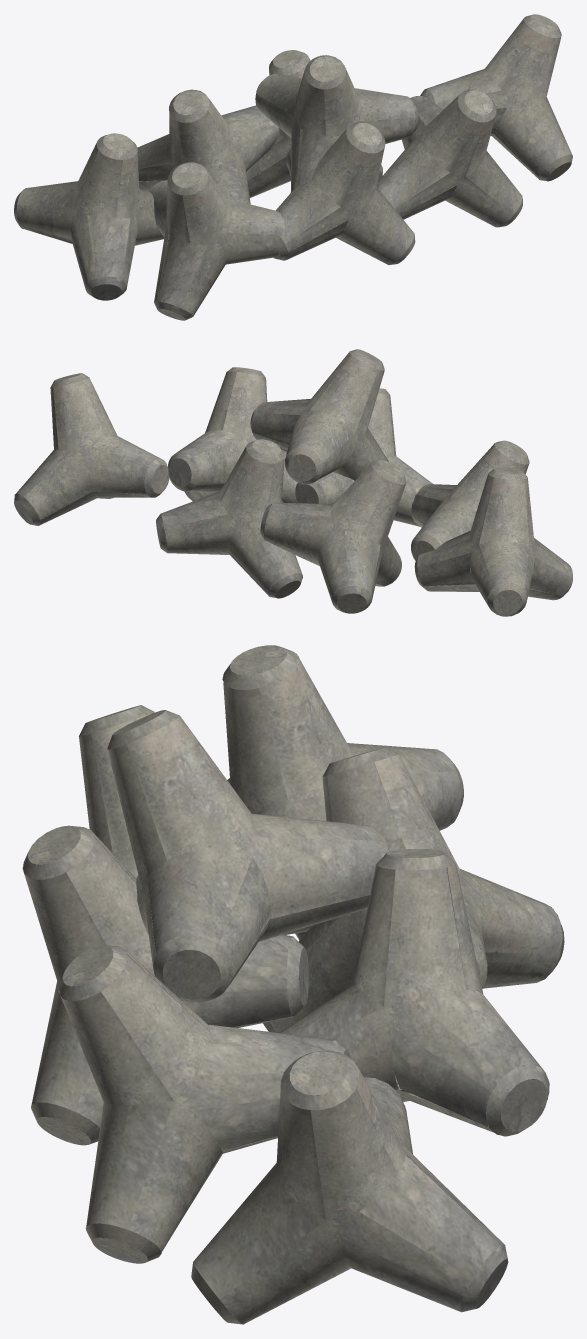
The model's file is tetrapod-pile.glb.
3 renders of one model, top to bottom at view 1: azimuth 30°, elevation 25°; view 2: azimuth 150°, elevation 25°; view 3: azimuth 270°, elevation 25°, orthographic. The views are drawn at different scales.
Parts seen in each view (by area): view 1: tetrapod_pile; view 2: tetrapod_pile; view 3: tetrapod_pile.
Boxes of the visible parts, x1,y1,x2,y2 form: tetrapod_pile: (14, 14, 572, 320); tetrapod_pile: (14, 349, 572, 616); tetrapod_pile: (22, 645, 564, 1324).
Size of the model in its own units: 6.39 by 2.56 by 3.01.
1 material, 1 textured.
